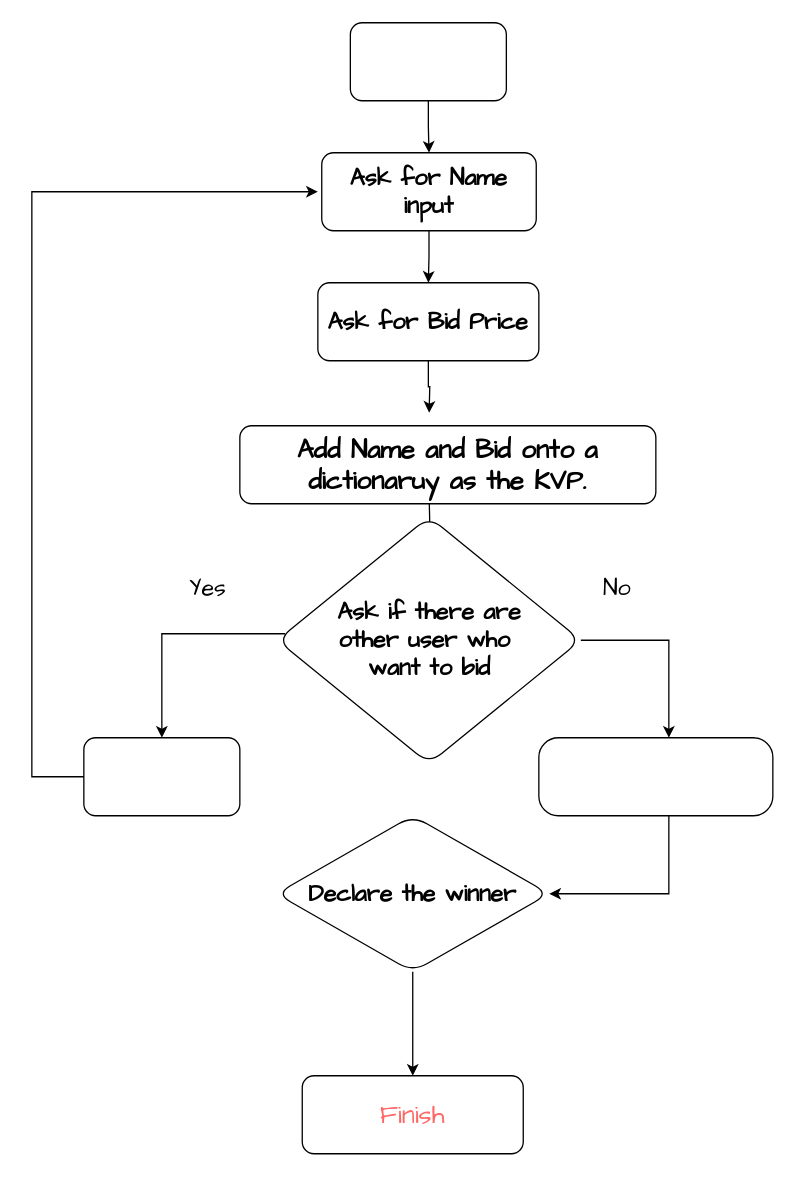
The diagram is 796 pixels wide and 1177 high, and some of its shapes have lost their labels. Here are the shapes that lost their labels. From the top down, the centre of each, then its label:
At (427,61): "START".
At (161,776): "Clears bid".
At (655,776): "Find the highest bid in a dictionary".
